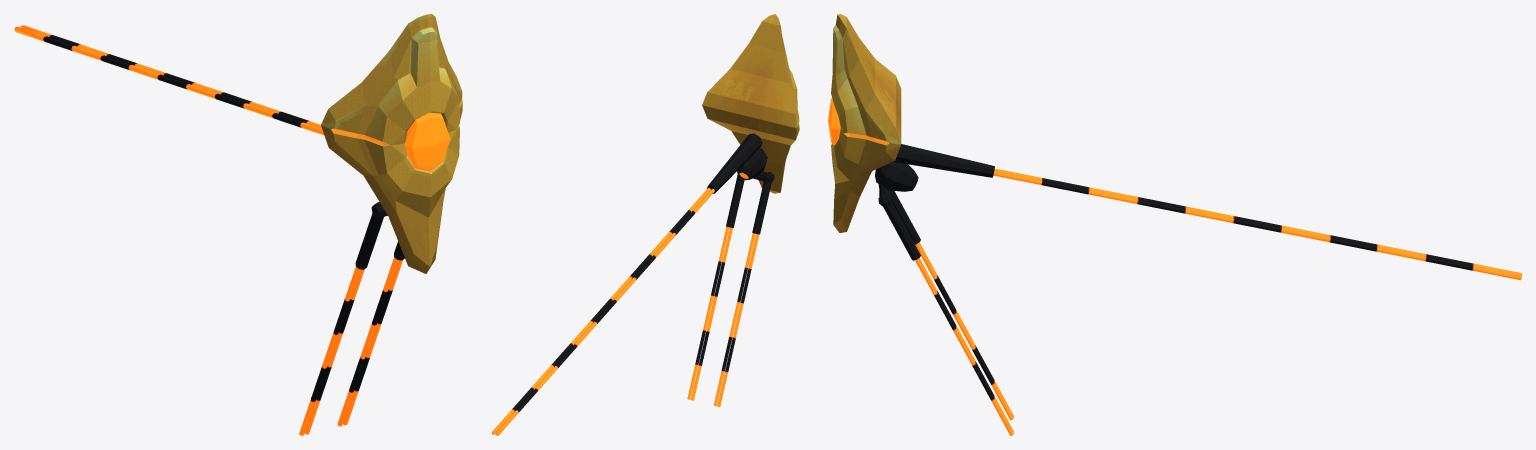
File: FlyerRetexture.fbx
3 renders of one model, left to right at view 1: azimuth 30°, elevation 25°; view 2: azimuth 150°, elevation 25°; view 3: azimuth 270°, elevation 25°, orthographic. The views are drawn at different scales.
Parts seen in each view (by area): view 1: body.001, wire.Center.R.001, wire.Center.L.001, wire.L.R.001, wire.R.L.001, wire.R.R.001, wire.L.L.001, leg.R.001; view 2: body.001, wire.Center.R.001, wire.Center.L.001, leg.Center.001, wire.L.L.001, wire.L.R.001, wire.R.R.001, wire.R.L.001, jet turbine.001, leg.R.001, leg.L.001; view 3: body.001, wire.Center.L.001, wire.Center.R.001, leg.Center.001, jet turbine.001, wire.L.L.001, wire.R.R.001, leg.L.001.
Part boxes in pixels (x1,y1,x2,y2): body.001: (321, 14, 462, 273); wire.Center.R.001: (14, 26, 323, 135); wire.Center.L.001: (20, 25, 321, 128); wire.L.R.001: (337, 257, 398, 426); wire.R.L.001: (299, 266, 359, 435); wire.R.R.001: (304, 269, 364, 434); wire.L.L.001: (343, 260, 402, 425); leg.R.001: (355, 202, 386, 269); body.001: (702, 14, 799, 193); wire.Center.R.001: (495, 188, 714, 435); wire.Center.L.001: (491, 188, 710, 434); leg.Center.001: (707, 133, 762, 193); wire.L.L.001: (687, 226, 729, 399); wire.L.R.001: (691, 227, 732, 400); wire.R.R.001: (713, 233, 755, 406); wire.R.L.001: (717, 234, 759, 406); jet turbine.001: (737, 148, 767, 180); leg.R.001: (752, 172, 774, 234); leg.L.001: (726, 171, 744, 227); body.001: (828, 14, 901, 232); wire.Center.L.001: (993, 171, 1521, 280); wire.Center.R.001: (994, 168, 1521, 275); leg.Center.001: (893, 144, 994, 177); jet turbine.001: (875, 162, 918, 191); wire.L.L.001: (915, 258, 1013, 435); wire.R.R.001: (915, 243, 1013, 420); leg.L.001: (878, 193, 920, 260).
Bounding box in the file's own units: 118 × 404 × 617.
